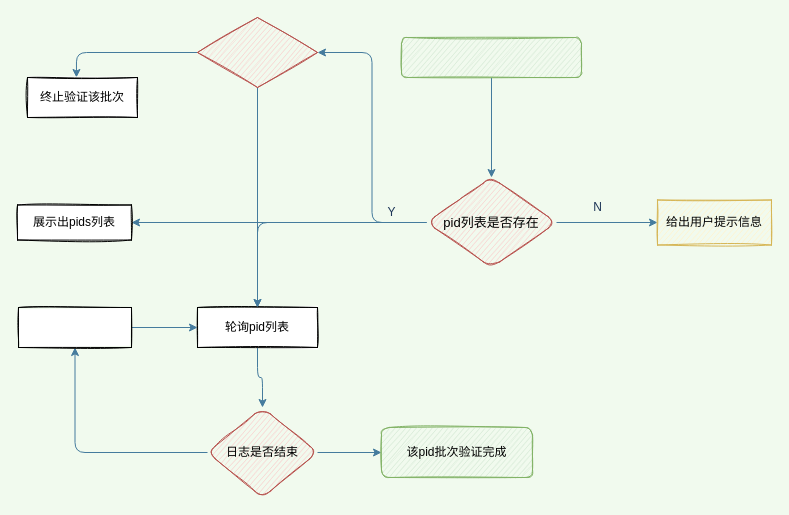
Image size: 789x515. Some labels were removed from this diagram. The box of each missing label's shape, as (x1, y1, x2, y2) in pixels:
开始验证: (400, 36, 582, 78)
提前终止流程: (196, 16, 318, 88)
该pid验证未结束: (18, 306, 132, 348)
